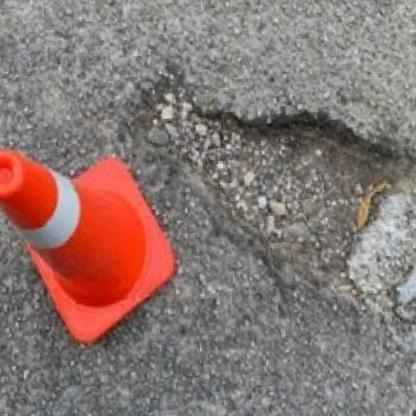pothole: (181, 76, 416, 294)
